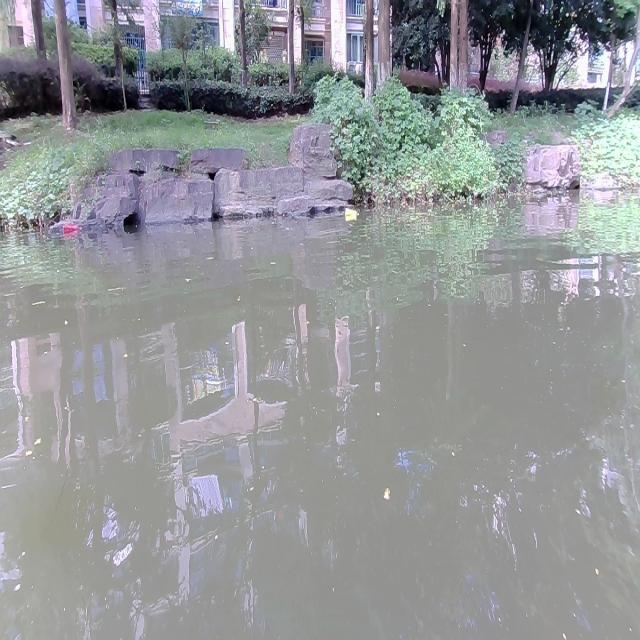bottle: (61, 220, 83, 236), (343, 205, 359, 222)
